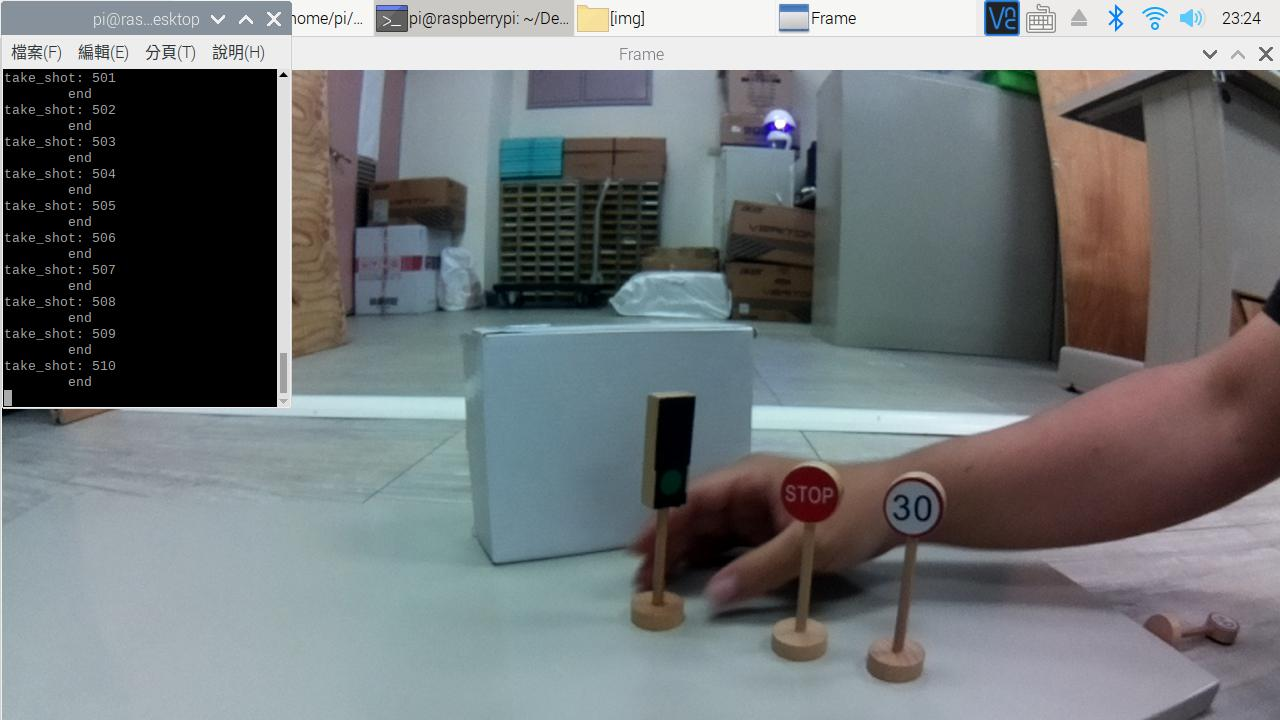Green: (634, 386, 700, 513)
Speed30: (874, 472, 953, 540)
Stop: (782, 464, 848, 527)
